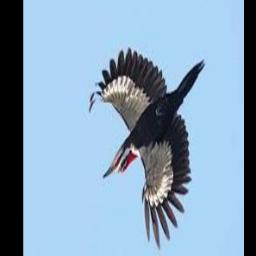Woodpecker: (89, 49, 205, 251)
